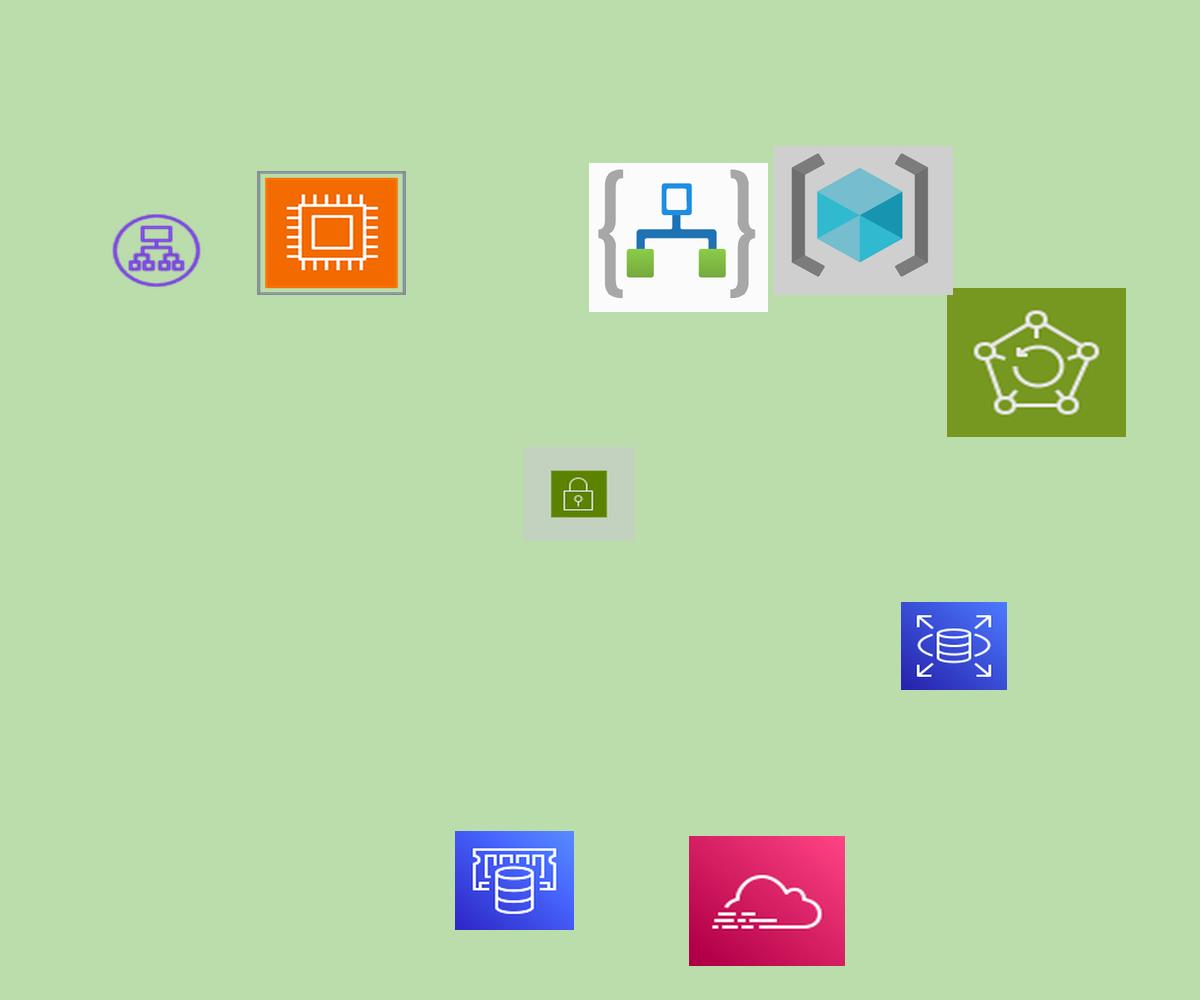AWS-Backup: (947, 288, 1126, 437)
AWS-Category_Compute: (257, 171, 406, 295)
AWS-CloudTrail: (689, 836, 845, 966)
AWS-ElastiCache: (455, 831, 574, 930)
AWS-Public-subnet: (523, 447, 635, 541)
AWS-RDS: (901, 602, 1007, 690)
AWS-Res_Elastic-Load-Balancing_Application-Load-Balancer: (109, 211, 204, 290)
Azure_integration-204-Logic-Apps: (589, 163, 768, 312)
Azure_resource_group: (774, 146, 953, 295)
